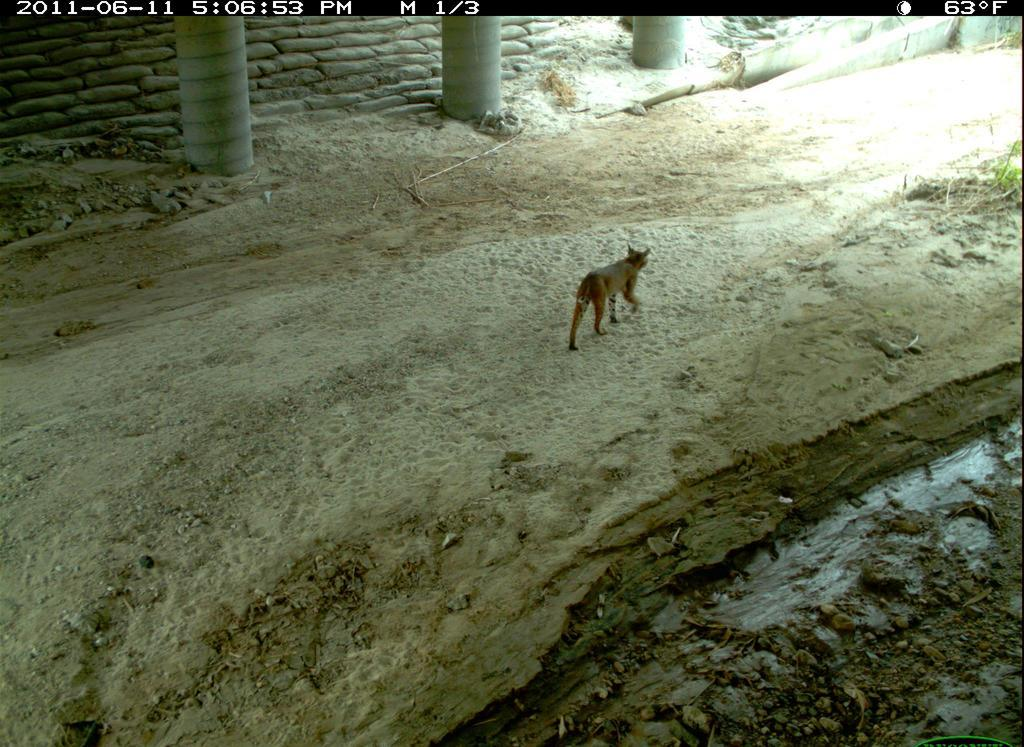bobcat: (565, 239, 660, 356)
